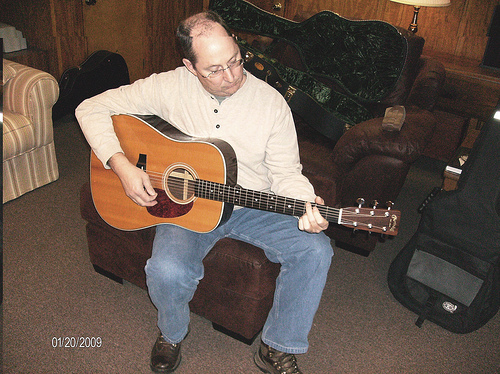guitar: (87, 112, 401, 239)
